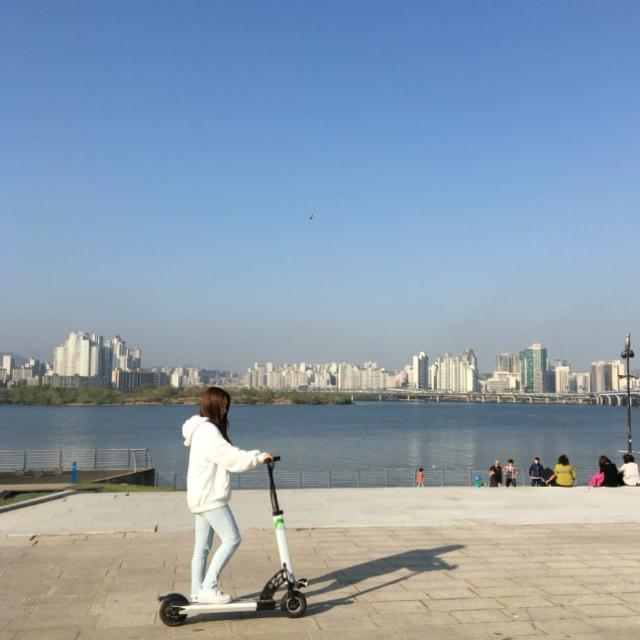non-helmet: (130, 362, 336, 626)
